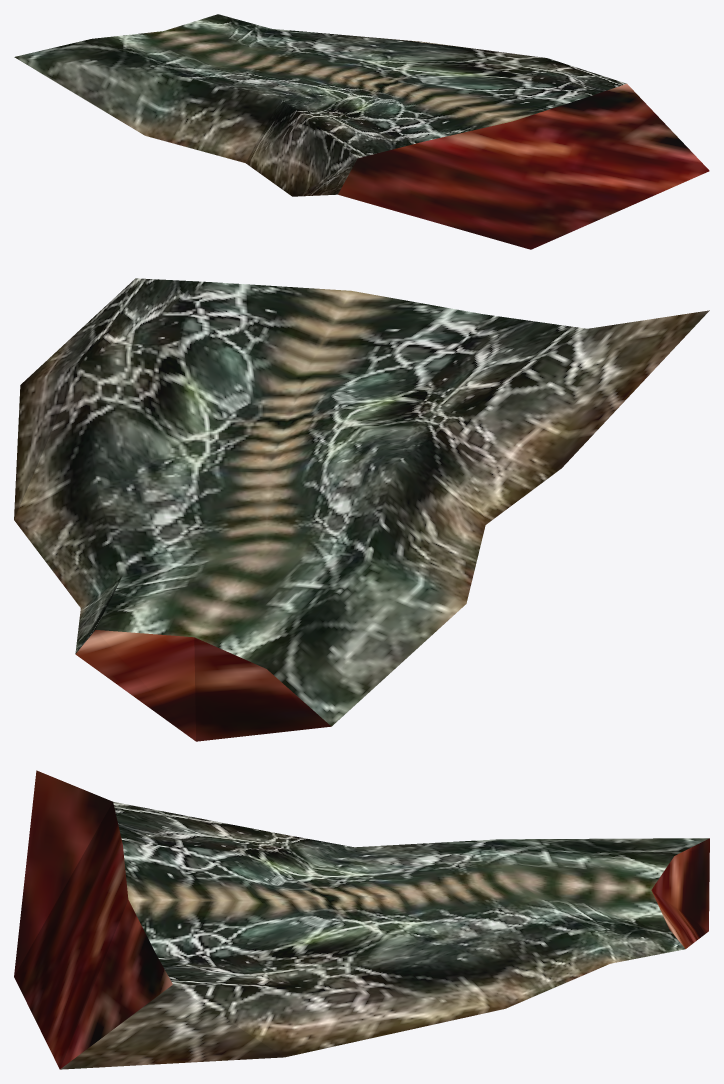
File: ITAT_SHARKSKIN.glb
The picture shows the model from 3 angles, top to bottom: view 1: azimuth 30°, elevation 25°; view 2: azimuth 150°, elevation 25°; view 3: azimuth 270°, elevation 25°; orthographic projection. The views are drawn at different scales.
Parts seen in each view (by area): view 1: ITAT_SHARKSKIN; view 2: ITAT_SHARKSKIN; view 3: ITAT_SHARKSKIN.
Part boxes in pixels (x1,y1,x2,y2): ITAT_SHARKSKIN: [14, 14, 709, 249]; ITAT_SHARKSKIN: [14, 278, 709, 741]; ITAT_SHARKSKIN: [14, 770, 709, 1069].
Bounding box in the file's own units: 0.3959 × 0.1002 × 0.5136.
1 material, 1 textured.
